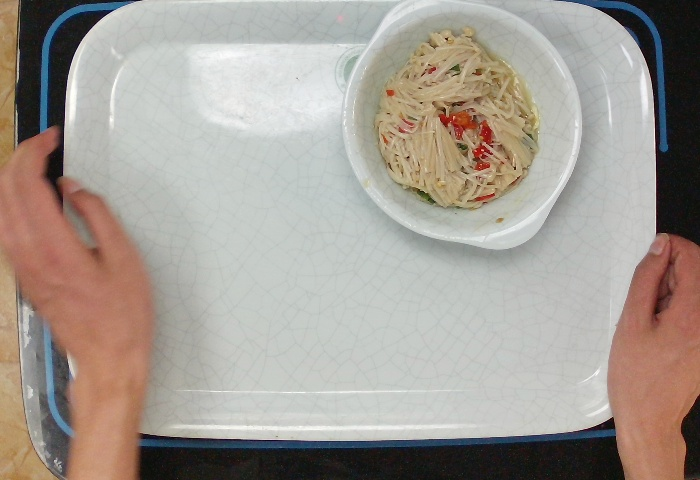JYsf-Shuang_Er_Wan: (337, 1, 590, 255)
